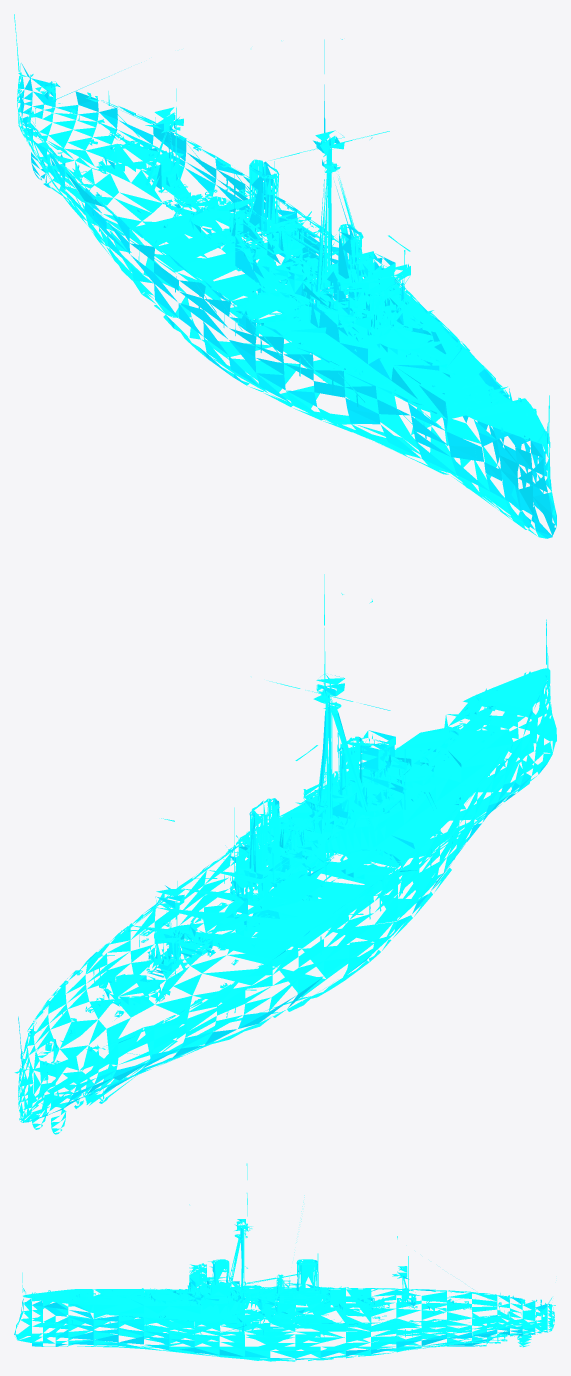
The model's file is Dreadnought.glb.
3 views of the same model, one above another, from view 1: azimuth 30°, elevation 25°; view 2: azimuth 150°, elevation 25°; view 3: azimuth 270°, elevation 25° (orthographic). The views are drawn at different scales.
Size of the model in its own units: 1.74 by 3.99 by 10.71.
